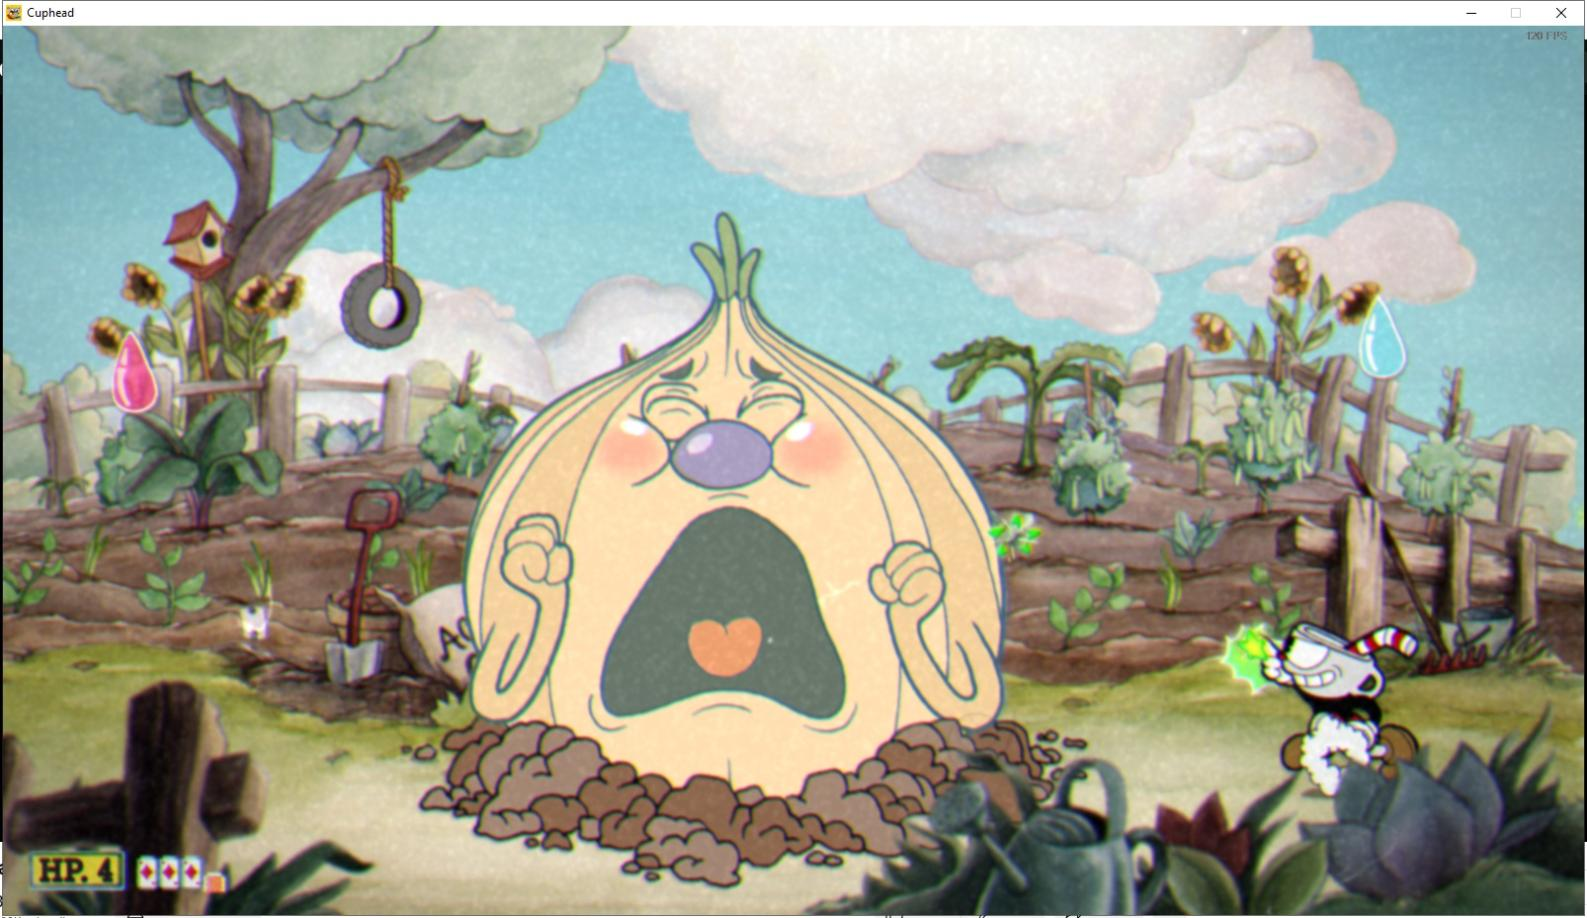hp4: (90, 850, 124, 892)
onion_boss: (443, 196, 1042, 843)
pink_rain: (107, 324, 165, 416)
player: (1231, 607, 1437, 782)
rain: (1346, 289, 1412, 384)
